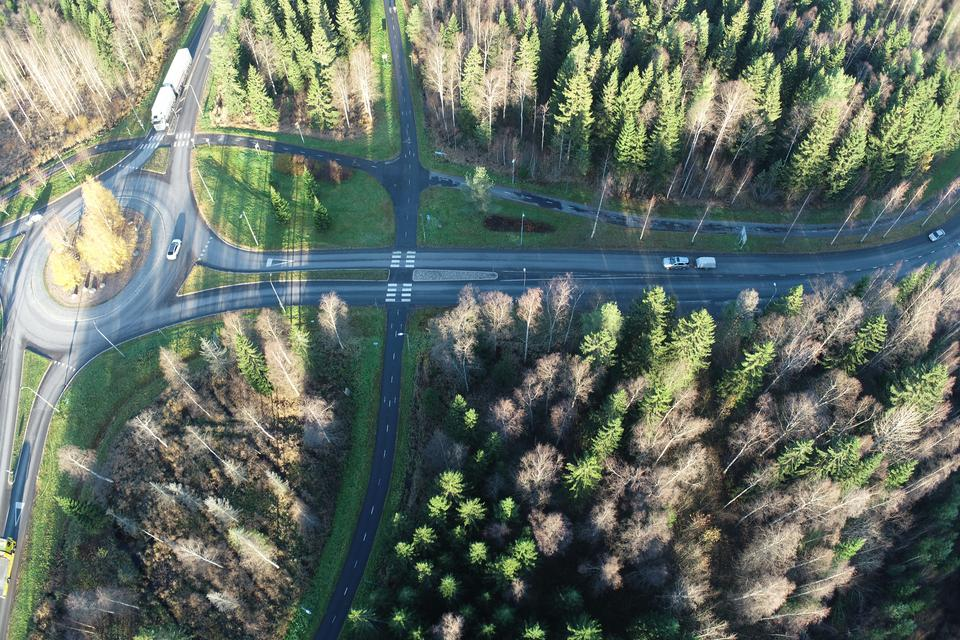intersection: (372, 238, 427, 323), (122, 126, 211, 158)
roundabout: (0, 162, 238, 381)
